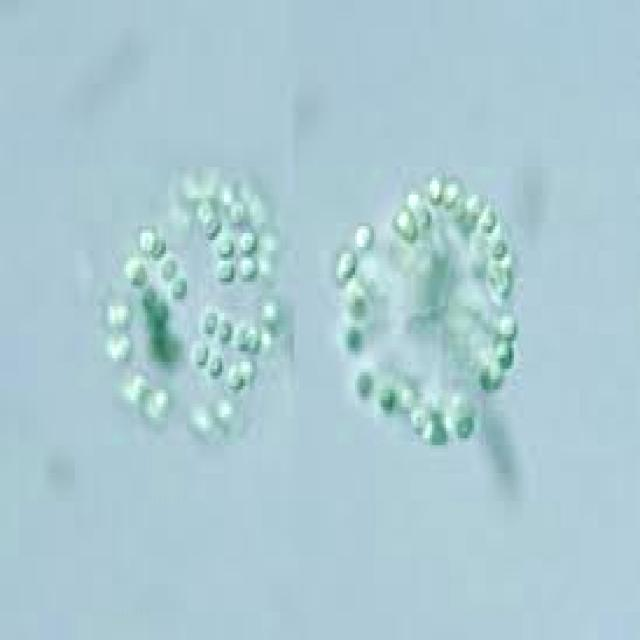Blue Green Algae: (390, 205, 418, 244), (423, 410, 448, 446), (493, 330, 514, 369), (121, 254, 145, 285), (479, 358, 502, 390), (198, 212, 222, 240), (334, 250, 357, 278), (498, 309, 518, 341), (215, 233, 236, 261), (171, 271, 189, 303), (453, 414, 477, 438), (355, 222, 374, 250), (428, 167, 442, 205), (136, 222, 154, 250), (199, 306, 217, 334), (157, 250, 175, 278), (236, 254, 257, 278), (479, 202, 497, 230), (238, 226, 255, 254), (213, 257, 231, 282), (215, 313, 231, 341), (231, 320, 245, 348), (205, 354, 222, 376), (189, 341, 206, 362), (227, 362, 240, 386)
